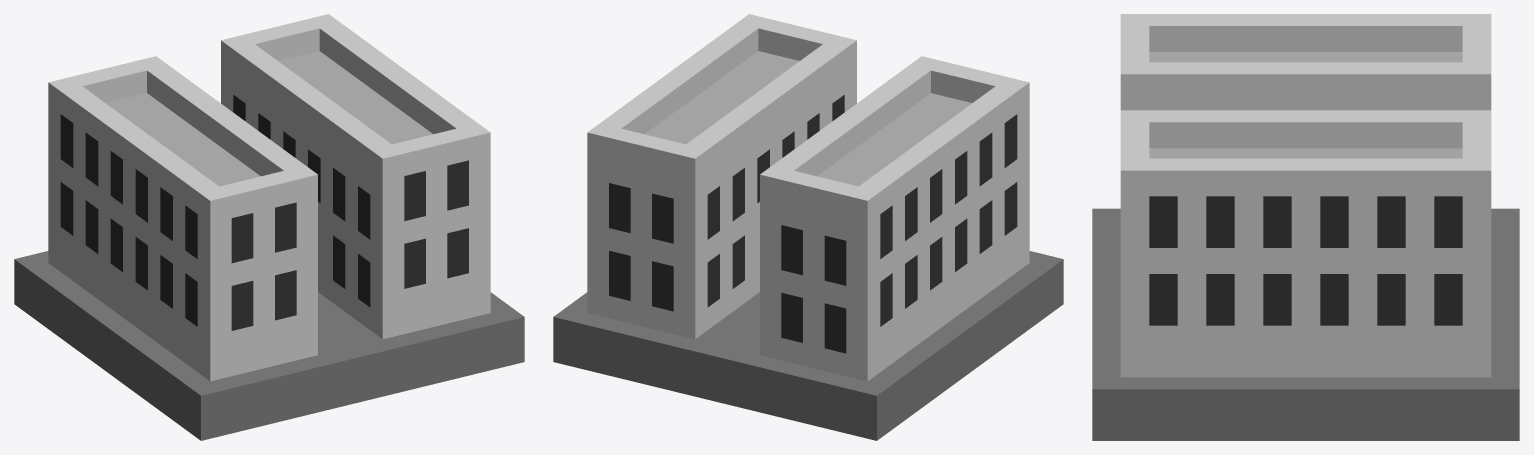
Rendered from Building01.obj.
The picture shows the model from 3 angles, left to right: view 1: azimuth 30°, elevation 25°; view 2: azimuth 150°, elevation 25°; view 3: azimuth 270°, elevation 25°; orthographic projection. The views are drawn at different scales.
Parts seen in each view (by area): view 1: Building01; view 2: Building01; view 3: Building01.
Boxes of the visible parts, x1=… form: Building01: x1=14, y1=14, x2=524, y2=440; Building01: x1=553, y1=14, x2=1063, y2=440; Building01: x1=1092, y1=14, x2=1519, y2=440.
Size of the model in its own units: 1.5 by 1 by 1.5.
1 material, 1 textured.
